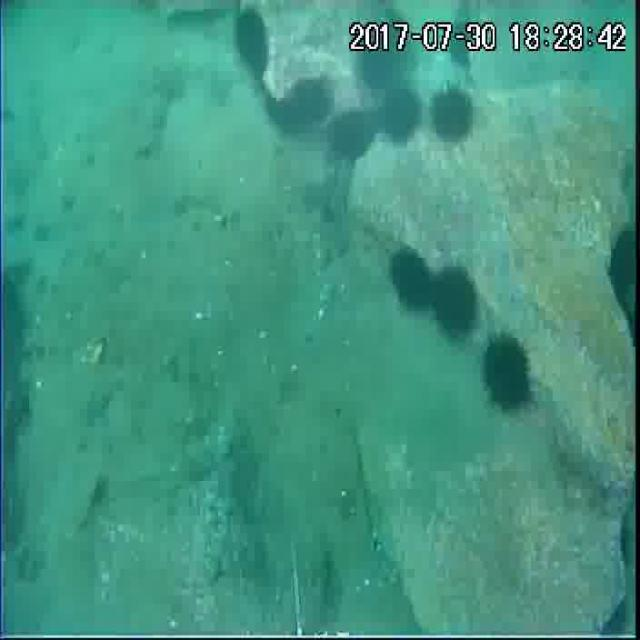echinus: (431, 262, 477, 339), (483, 334, 530, 409), (353, 24, 402, 94), (391, 248, 435, 316), (329, 104, 380, 160), (434, 82, 476, 148), (230, 10, 269, 79), (379, 84, 422, 144), (292, 72, 334, 124), (262, 94, 302, 136), (446, 16, 479, 66)
